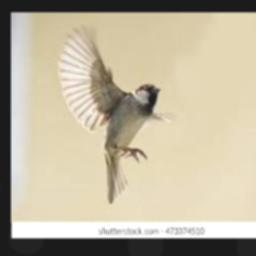Sparrow: (59, 22, 171, 203)
